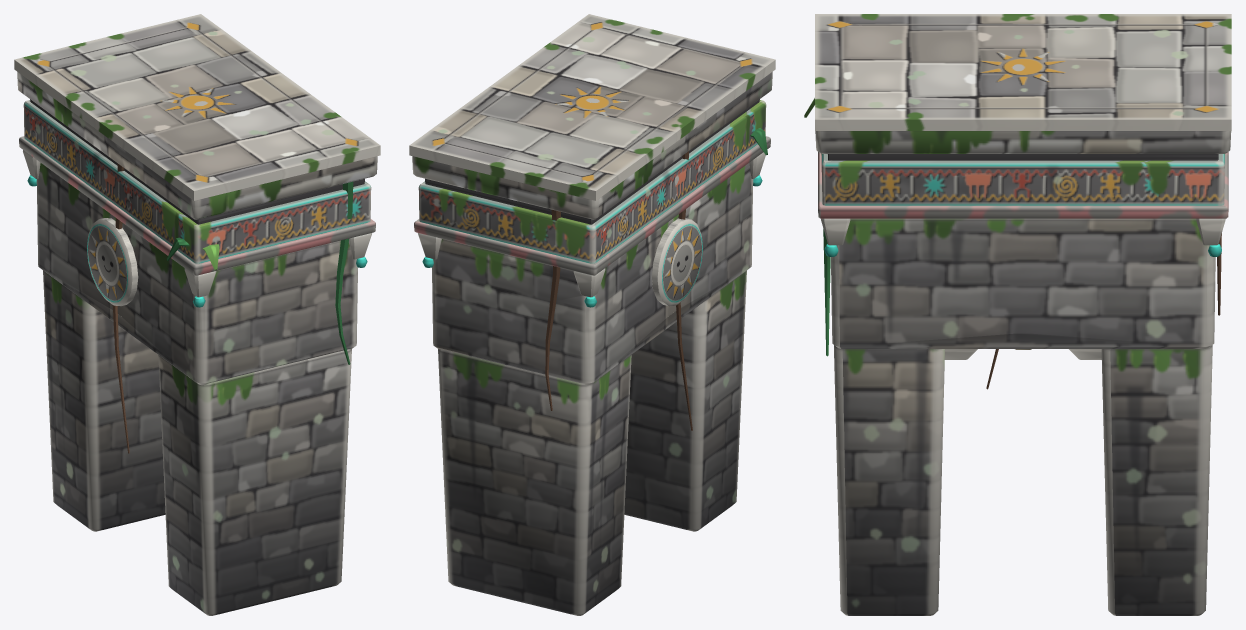
File: slab_W.glb
The picture shows the model from 3 angles, left to right: view 1: azimuth 30°, elevation 25°; view 2: azimuth 150°, elevation 25°; view 3: azimuth 270°, elevation 25°; orthographic projection. The views are drawn at different scales.
Parts seen in each view (by area): view 1: slab_W.001; view 2: slab_W.001; view 3: slab_W.001.
Boxes of the visible parts, left/top/right/bottom form: slab_W.001: left=14, top=14, right=380, bottom=615; slab_W.001: left=409, top=14, right=775, bottom=615; slab_W.001: left=804, top=14, right=1231, bottom=615.
Bounding box in the file's own units: 6.31 × 13.6 × 10.25.
Materials: 1 (1 with a texture image).
